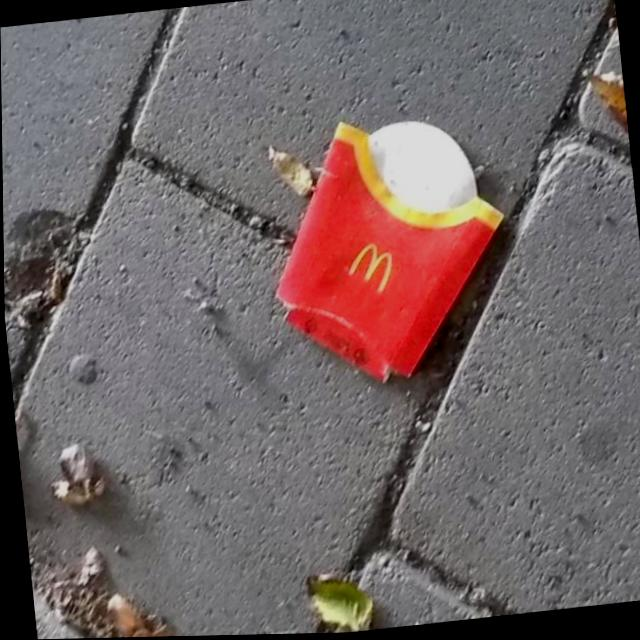Paper: (251, 103, 519, 397)
